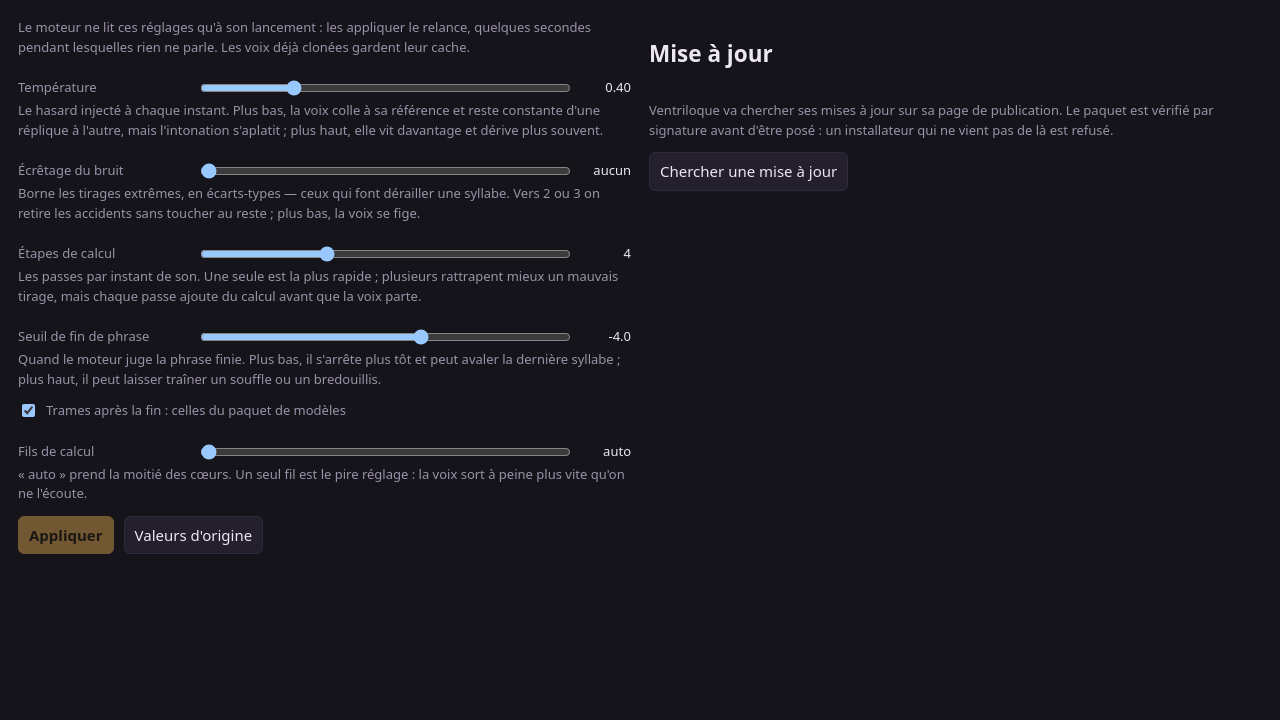
valeurs d'origine › les remet dans le brouillon, sans les appliquer
Expected: the slider labelled "Température 0.40" holds "0.4", top-left (200, 79), bottom-right (571, 97)
Step 1. Click the button "Valeurs d'origine" → (193, 535), box top-left (124, 516), bottom-right (263, 554)
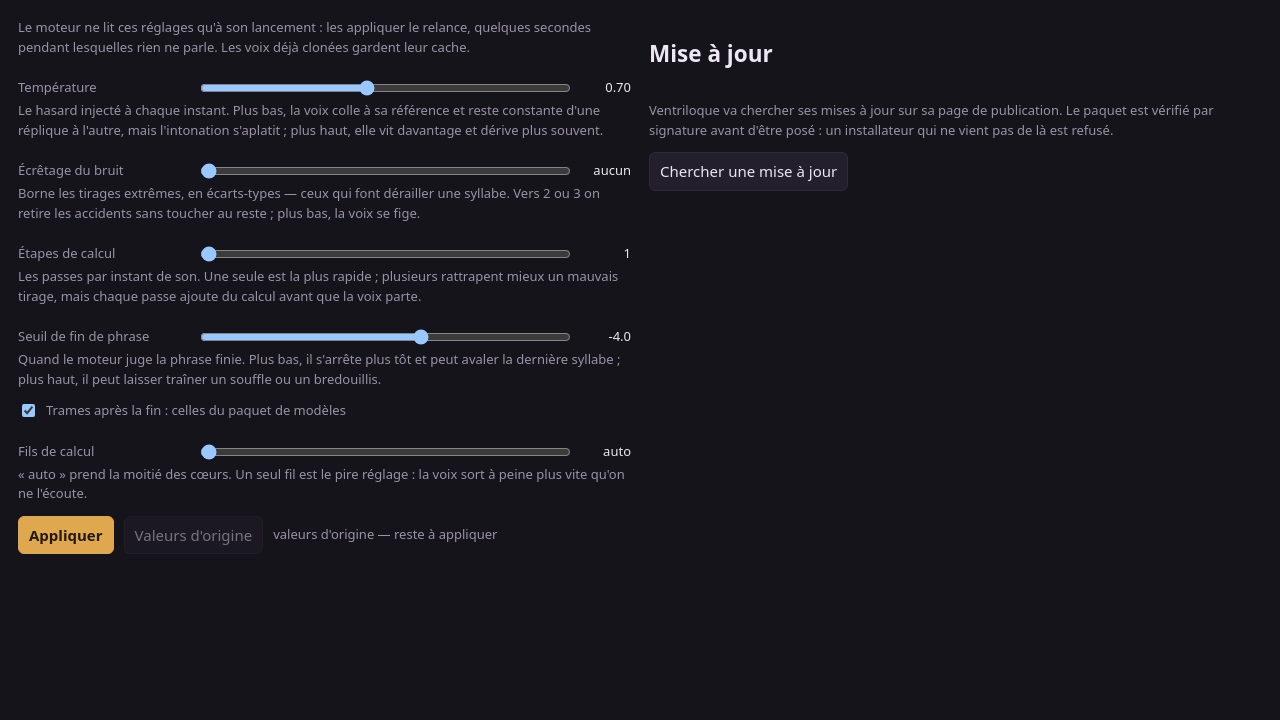
Expected: the slider labelled "Température 0.70" holds "0.7", top-left (200, 79), bottom-right (571, 97)
Expected: the slider labelled "Étapes de calcul 1" holds "1", top-left (200, 245), bottom-right (571, 263)
Expected: the button "Appliquer" is enabled, top-left (18, 516), bottom-right (114, 554)
